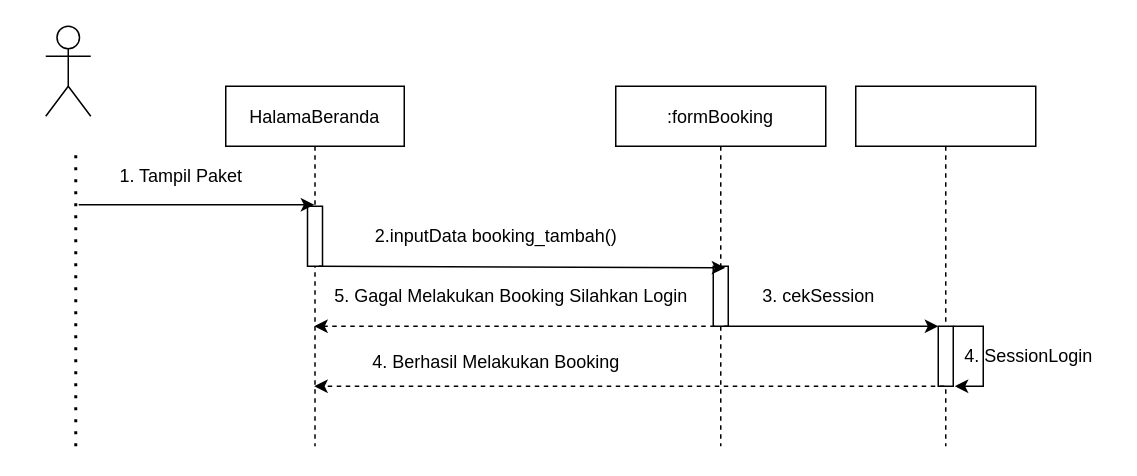
Image size: 1137x476. Some labels were removed from this diagram. Here are the shapes that lost their labels. From the top down, the box of each, then its label:
(44, 25, 91, 116): Konsumen
(854, 85, 1036, 446): :controllerDashboard
